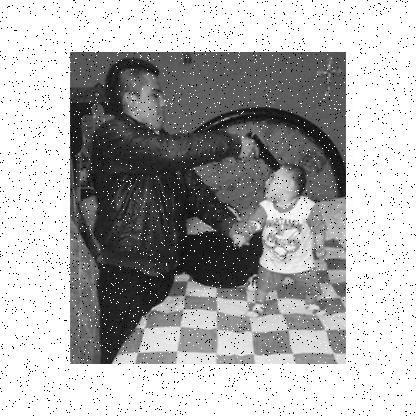gun: (237, 128, 281, 170)
